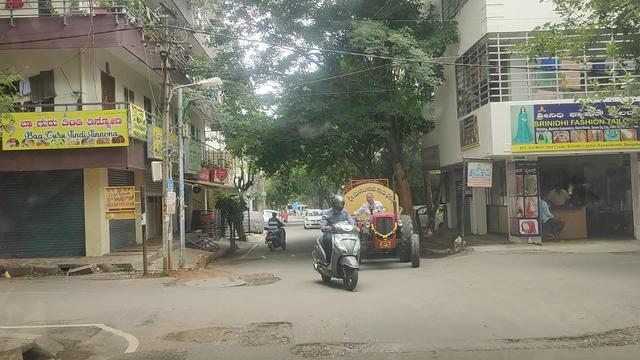HMV: (337, 178, 422, 263)
LMV: (318, 195, 358, 287)
RoadDamages: (163, 318, 290, 347), (475, 327, 639, 348), (289, 336, 369, 358), (188, 272, 278, 288)
